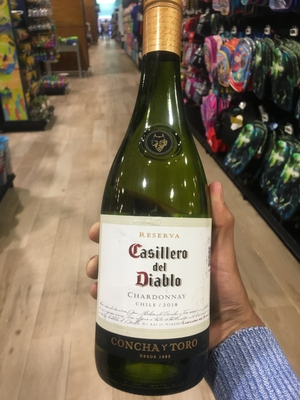casillero del diablo chardonnay: (93, 17, 216, 387)
